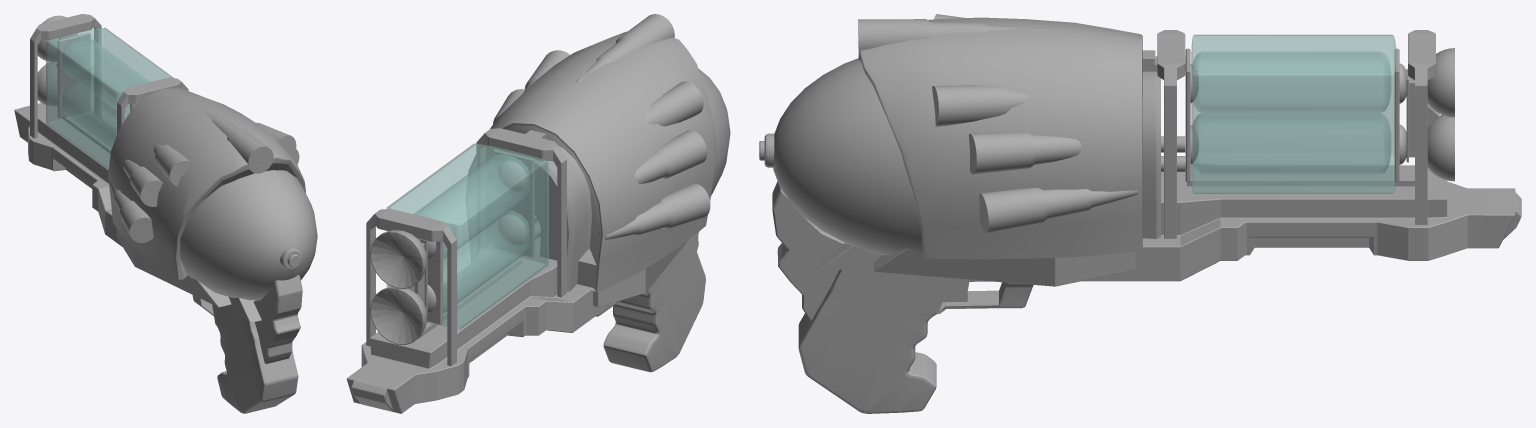
Rendered from Raygun_combined.fbx.
3 renders of one model, left to right at view 1: azimuth 30°, elevation 25°; view 2: azimuth 150°, elevation 25°; view 3: azimuth 270°, elevation 25°, orthographic. The views are drawn at different scales.
Parts seen in each view (by area): view 1: side1; view 2: side1; view 3: side1.
Boxes of the visible parts, x1,y1,x2,y2 form: side1: (14, 14, 317, 413); side1: (346, 14, 730, 413); side1: (759, 14, 1521, 413).
Size of the model in its own units: 6.9 by 10.17 by 18.37.
